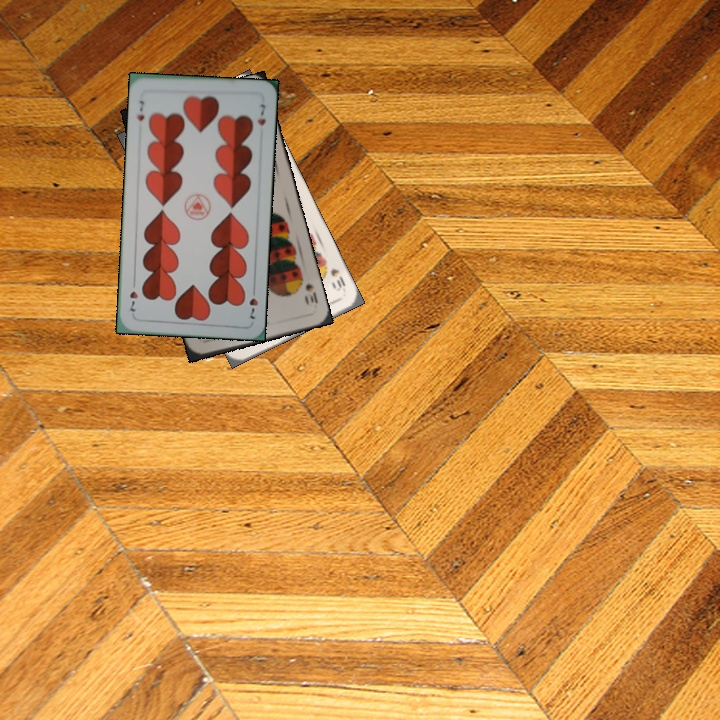H7: (245, 283, 261, 322), (133, 96, 147, 124)
S10: (326, 264, 348, 294), (300, 279, 320, 308)
